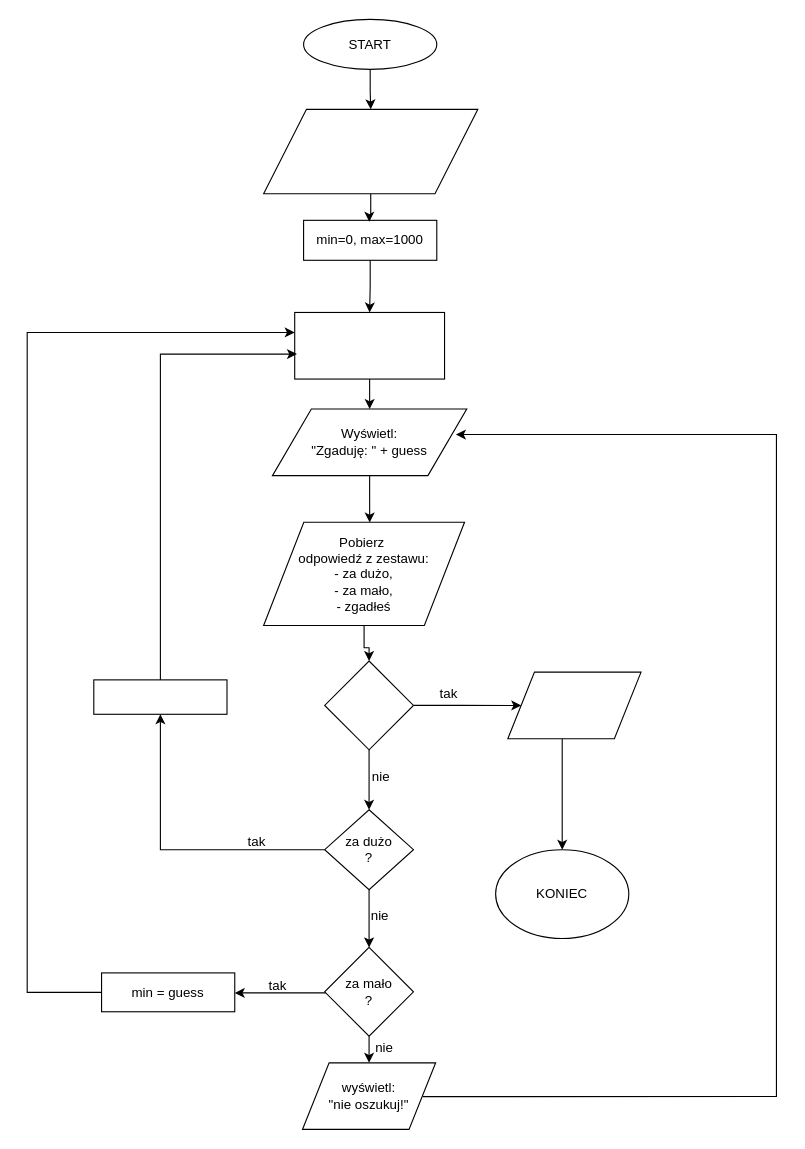
Image size: 805x1149. Some labels were removed from this diagram. The shapes that lost their labels are listed below. From the top down, each one's centre as x and y in pixels, then its label:
point 370,151: Wyświetl: "Pomyśl liczbę od 0 do 1000, a ja ją zgadnę w max. 10 próbach"
point 369,345: guess = int((max-min) / 2) + min
point 160,696: max = guess
point 368,705: zgadłeś ?
point 574,705: wyświetl: "Wygrałem!"
